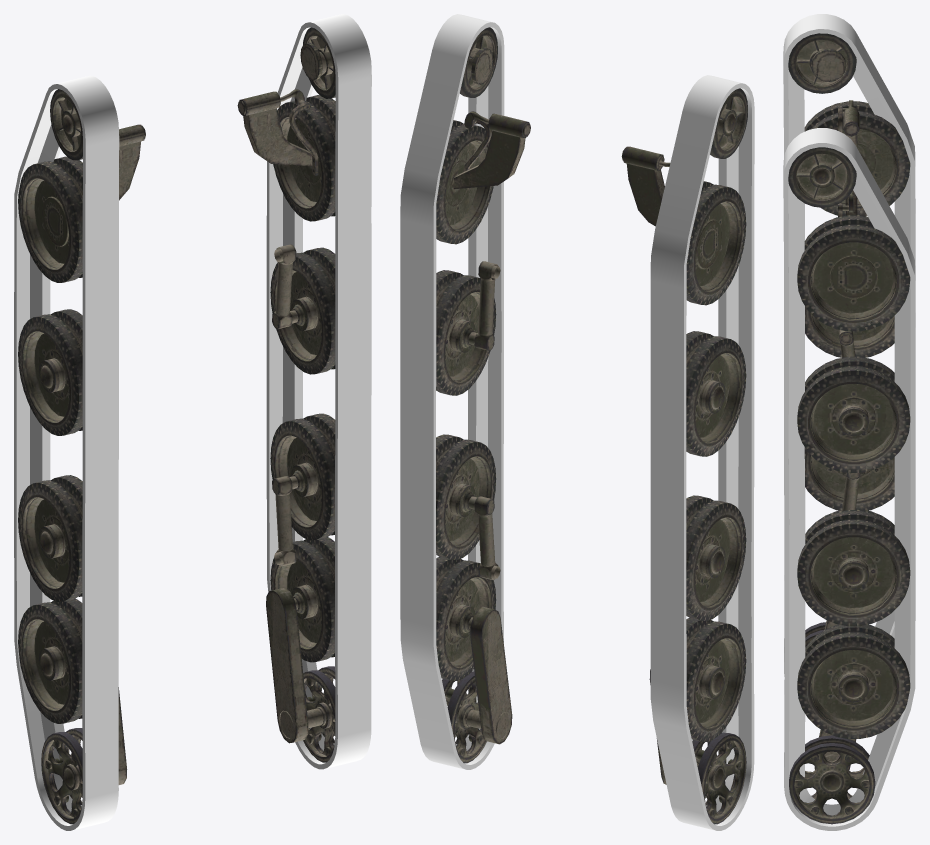
File: Chassis.glb
The picture shows the model from 3 angles, left to right: view 1: azimuth 30°, elevation 25°; view 2: azimuth 150°, elevation 25°; view 3: azimuth 270°, elevation 25°; orthographic projection. The views are drawn at different scales.
Visible parts, largest first — view 1: set_0_group_0, set_3_group_0, set_1_group_0, set_2_group_0; view 2: set_0_group_0, set_1_group_0, set_3_group_0, set_2_group_0; view 3: set_3_group_0, set_1_group_0, set_2_group_0, set_0_group_0.
Part boxes in pixels (box(x1,y1,x2,y2)): set_0_group_0: box(14, 75, 119, 830); set_3_group_0: box(237, 27, 335, 762); set_1_group_0: box(266, 14, 371, 769); set_2_group_0: box(18, 89, 145, 824); set_0_group_0: box(650, 75, 754, 830); set_1_group_0: box(400, 14, 504, 769); set_3_group_0: box(436, 27, 530, 763); set_2_group_0: box(621, 88, 747, 824); set_3_group_0: box(788, 147, 910, 824); set_1_group_0: box(783, 128, 915, 830); set_2_group_0: box(788, 33, 910, 647); set_0_group_0: box(783, 14, 915, 676).
Bounding box in the file's own units: 2.28 × 5.54 × 0.9654.
Materials: 4 (2 with a texture image).
